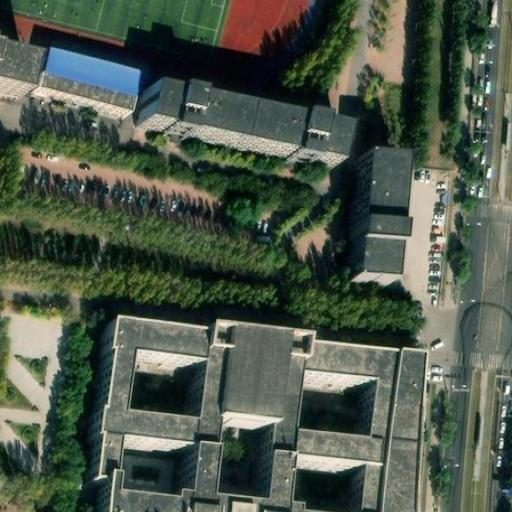building: (93, 323, 425, 512), (139, 84, 343, 163), (351, 156, 400, 285), (31, 54, 132, 115), (0, 49, 30, 95)
